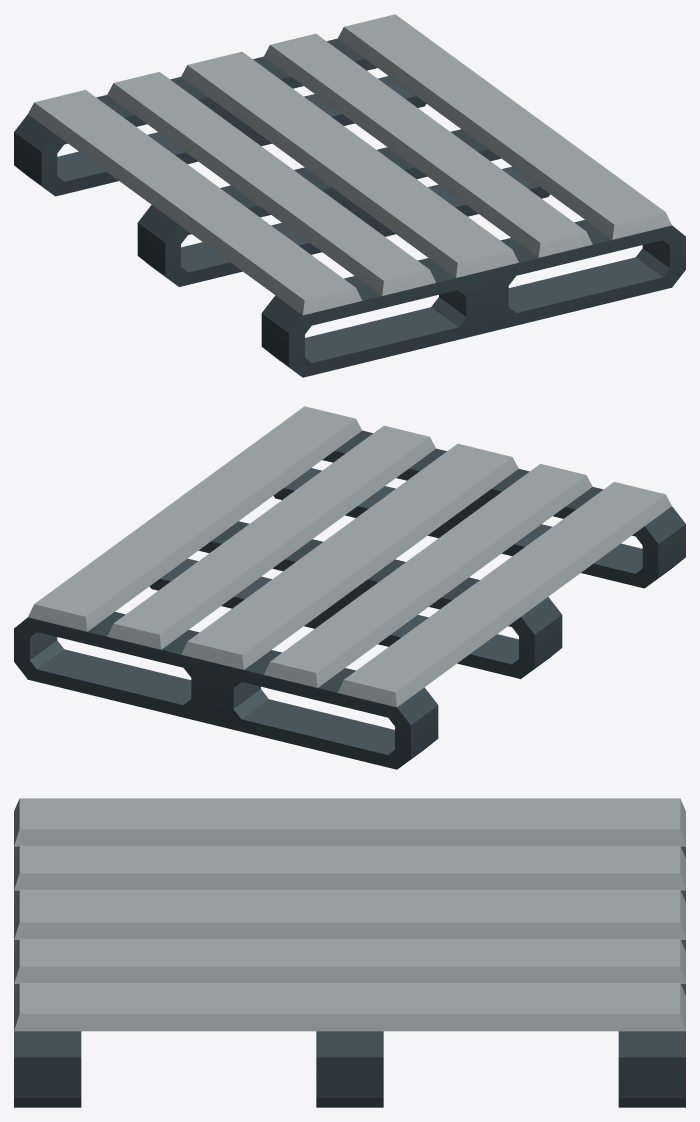
The model's file is Pallete_01.glb.
3 views of the same model, one above another, from view 1: azimuth 30°, elevation 25°; view 2: azimuth 150°, elevation 25°; view 3: azimuth 270°, elevation 25° (orthographic). The views are drawn at different scales.
Parts seen in each view (by area): view 1: Pallete_01; view 2: Pallete_01; view 3: Pallete_01.
Part boxes in pixels (<box>): Pallete_01: <box>14,14,685,377</box>; Pallete_01: <box>14,406,685,769</box>; Pallete_01: <box>14,798,685,1107</box>.
Size of the model in its own units: 1 by 0.18 by 1.2.
Materials: 1 (1 with a texture image).
